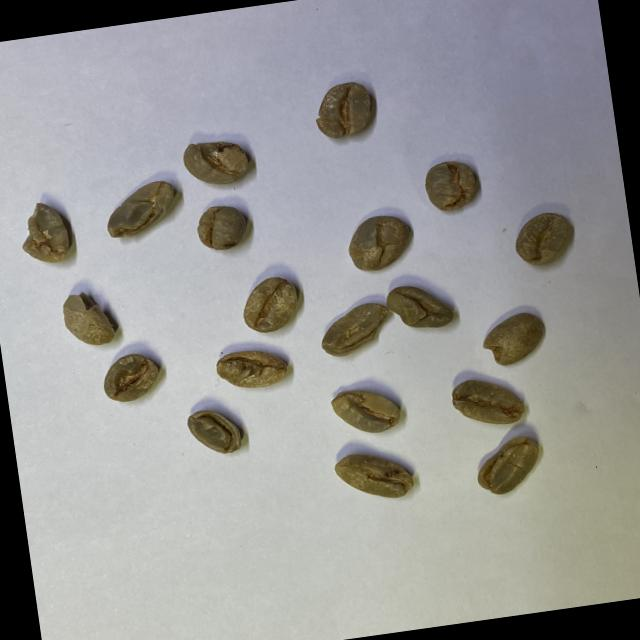bad: (331, 442, 418, 510), (100, 175, 186, 243), (446, 369, 530, 434), (471, 432, 548, 500), (343, 208, 420, 276), (316, 298, 396, 362), (310, 76, 380, 146), (326, 381, 406, 442), (477, 306, 552, 371), (178, 132, 257, 192), (14, 197, 77, 272), (382, 277, 458, 337), (212, 342, 292, 396), (419, 156, 486, 220), (97, 348, 165, 408), (58, 286, 119, 352), (183, 403, 246, 462), (192, 200, 250, 256)
good: (236, 271, 308, 337), (509, 208, 582, 272)
